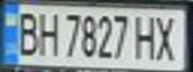2: (96, 11, 115, 60)
7: (112, 11, 133, 60), (60, 10, 81, 57)
8: (78, 11, 100, 58)
B: (9, 8, 42, 56)
H: (133, 11, 160, 61), (33, 8, 60, 57)
X: (151, 11, 184, 63)
